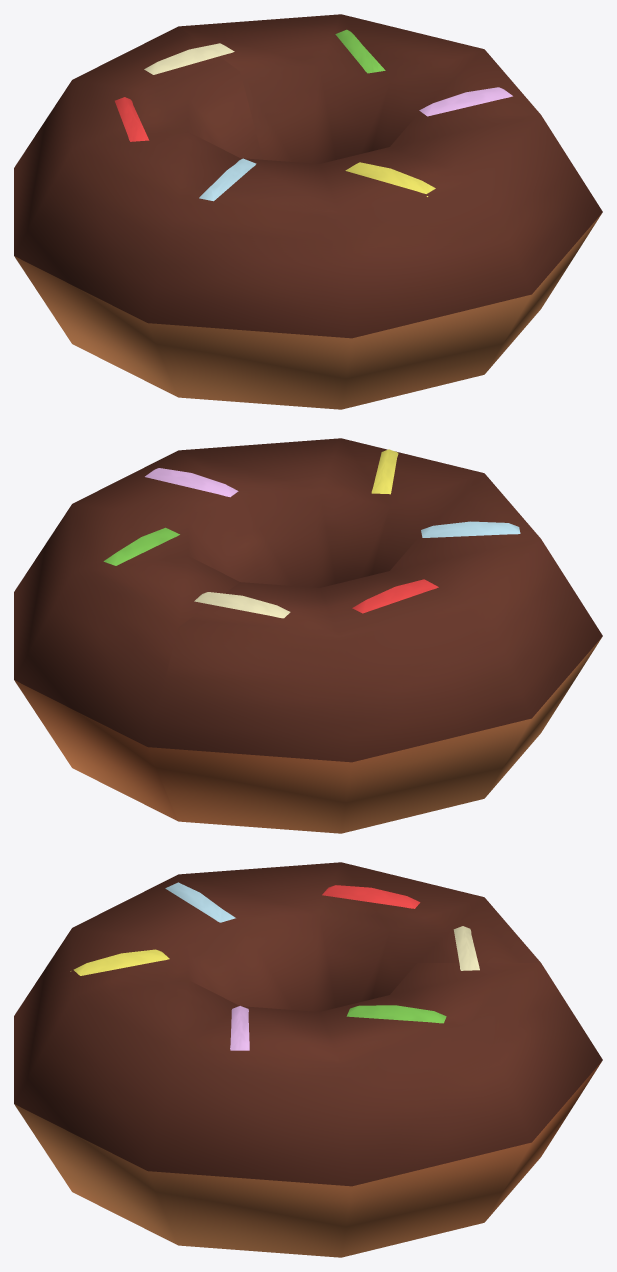
The model's file is Doughnut_D_3.FBX.
The picture shows the model from 3 angles, top to bottom: view 1: azimuth 30°, elevation 25°; view 2: azimuth 150°, elevation 25°; view 3: azimuth 270°, elevation 25°; orthographic projection.
Visible parts, largest first — view 1: Doughnut; view 2: Doughnut; view 3: Doughnut.
Boxes of the visible parts, x1=… form: Doughnut: x1=14, y1=14, x2=602, y2=409; Doughnut: x1=14, y1=438, x2=602, y2=833; Doughnut: x1=14, y1=862, x2=602, y2=1257.
Size of the model in its own units: 52.77 by 19.96 by 51.97.
